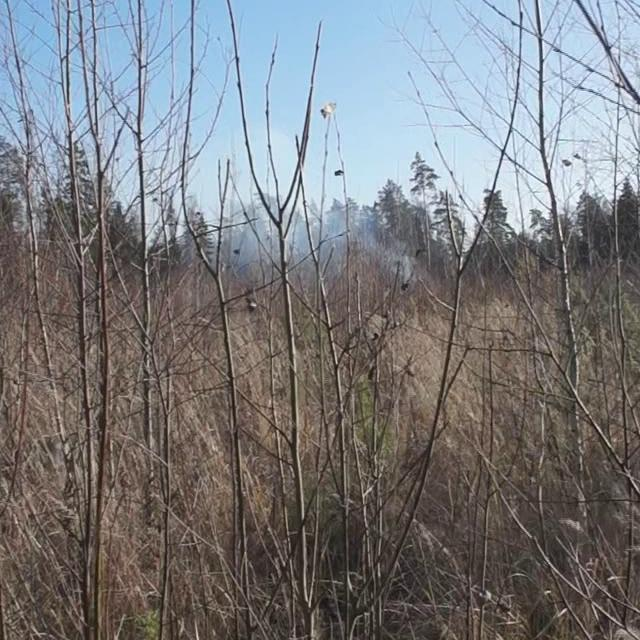Smoke: (202, 178, 446, 290)
